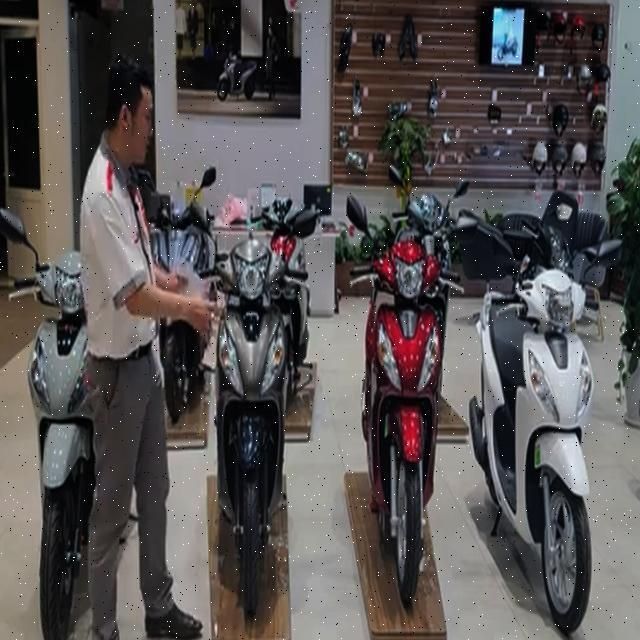motorcycle: (339, 185, 478, 630), (179, 195, 320, 626), (466, 227, 606, 640), (0, 204, 102, 640)
